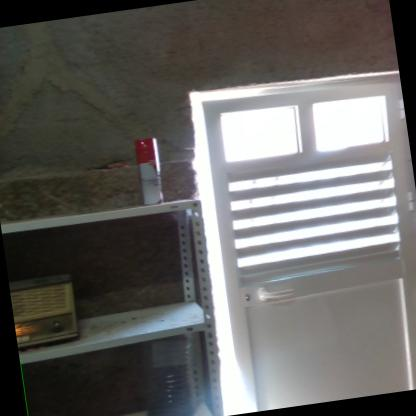closed: (182, 57, 415, 416)
